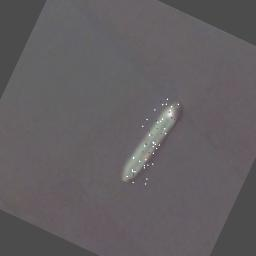boat: (118, 93, 183, 190)
